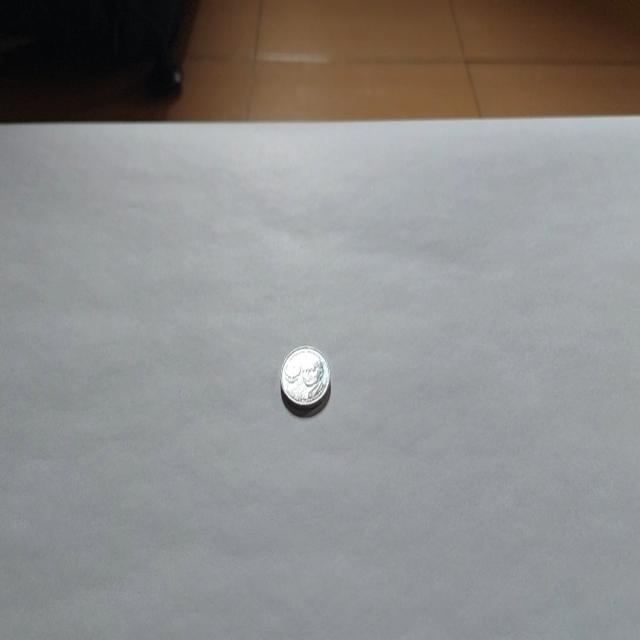lima ratus rupiah: (279, 343, 331, 416)
